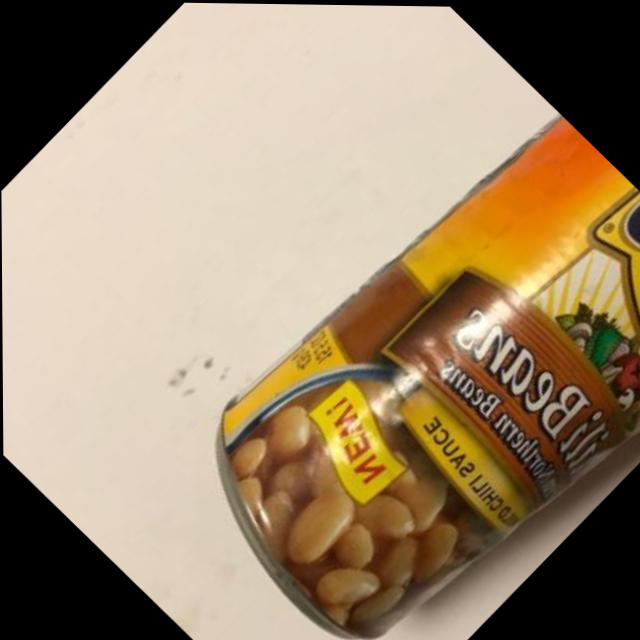metal: (218, 119, 639, 634)
